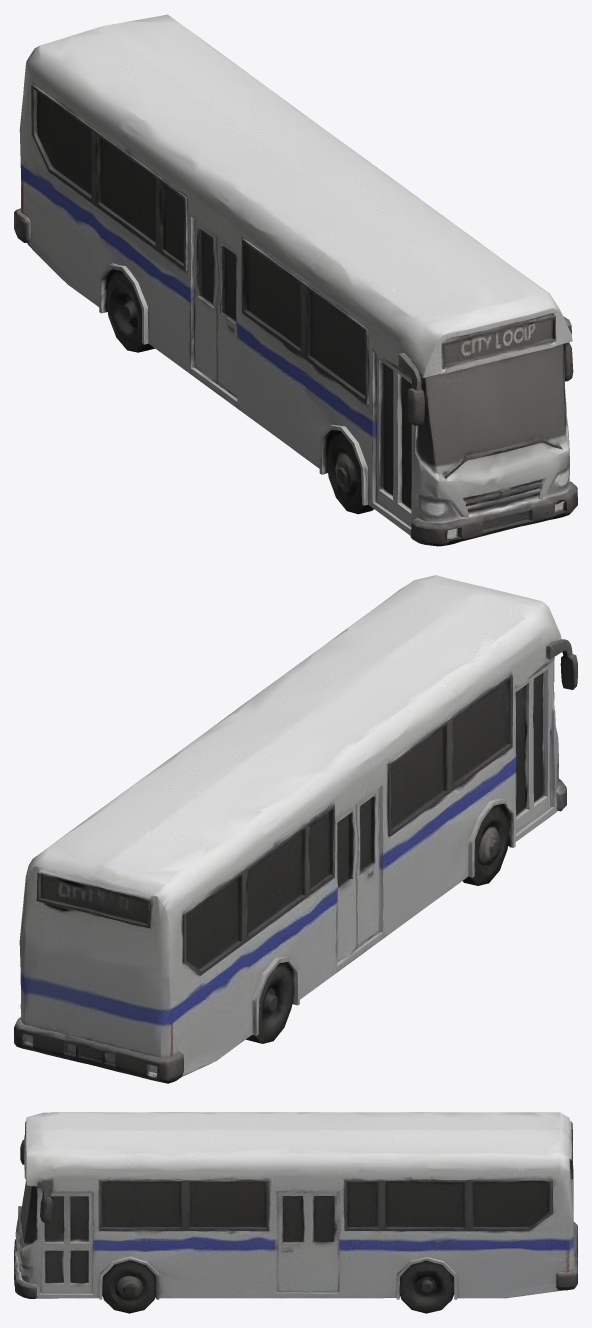
File: onibus_grande.glb
3 renders of one model, top to bottom at view 1: azimuth 30°, elevation 25°; view 2: azimuth 150°, elevation 25°; view 3: azimuth 270°, elevation 25°, orthographic. The views are drawn at different scales.
Visible parts, largest first — view 1: tripo_node_becd3fd6-118f-4911-8094-139065b87911; view 2: tripo_node_becd3fd6-118f-4911-8094-139065b87911; view 3: tripo_node_becd3fd6-118f-4911-8094-139065b87911.
Boxes of the visible parts, left/top/right/bottom form: tripo_node_becd3fd6-118f-4911-8094-139065b87911: left=14, top=14, right=577, bottom=546; tripo_node_becd3fd6-118f-4911-8094-139065b87911: left=14, top=575, right=577, bottom=1083; tripo_node_becd3fd6-118f-4911-8094-139065b87911: left=14, top=1112, right=577, bottom=1313.
Bounding box in the file's own units: 2.7 × 3.4 × 11.
1 material, 1 textured.
